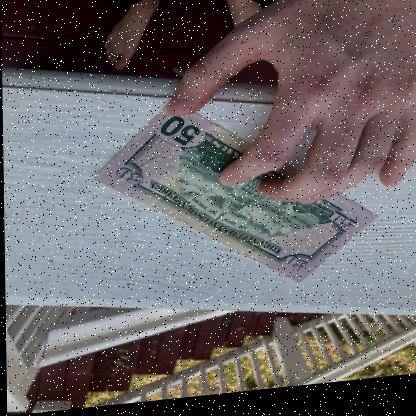fifty-back: (97, 92, 375, 286)
